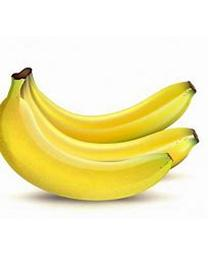banana: (0, 66, 199, 201)
